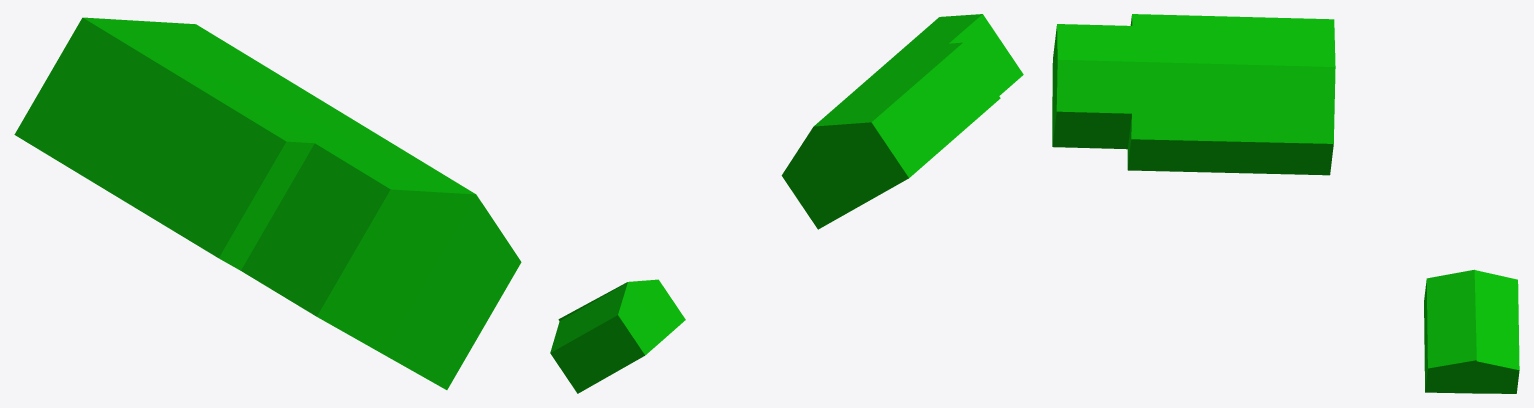
The picture shows the model from 3 angles, left to right: view 1: azimuth 30°, elevation 25°; view 2: azimuth 150°, elevation 25°; view 3: azimuth 270°, elevation 25°; orthographic projection. The views are drawn at different scales.
Visible parts, largest first — view 1: mesh; view 2: mesh; view 3: mesh.
Boxes of the visible parts, x1,y1,x2,y2 form: mesh: (14,17,521,389); mesh: (550,14,1023,393); mesh: (1052,14,1519,393).
Size of the model in its own units: 16.4 by 14.83 by 22.63.
